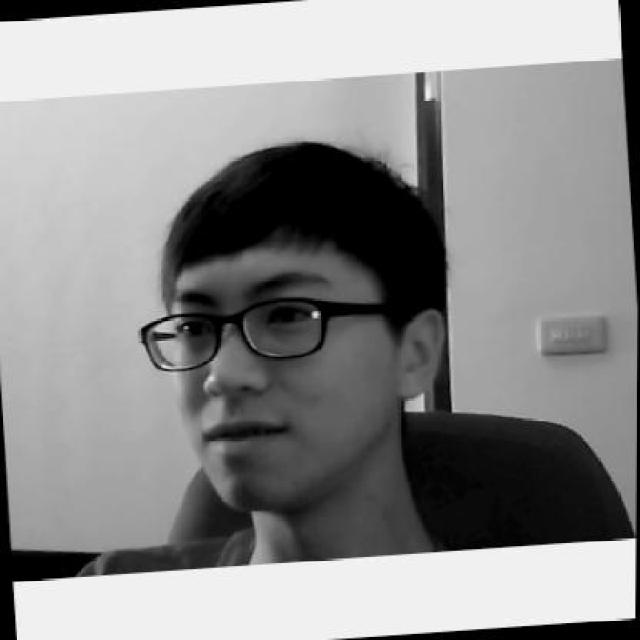attentif: (127, 133, 458, 516)
